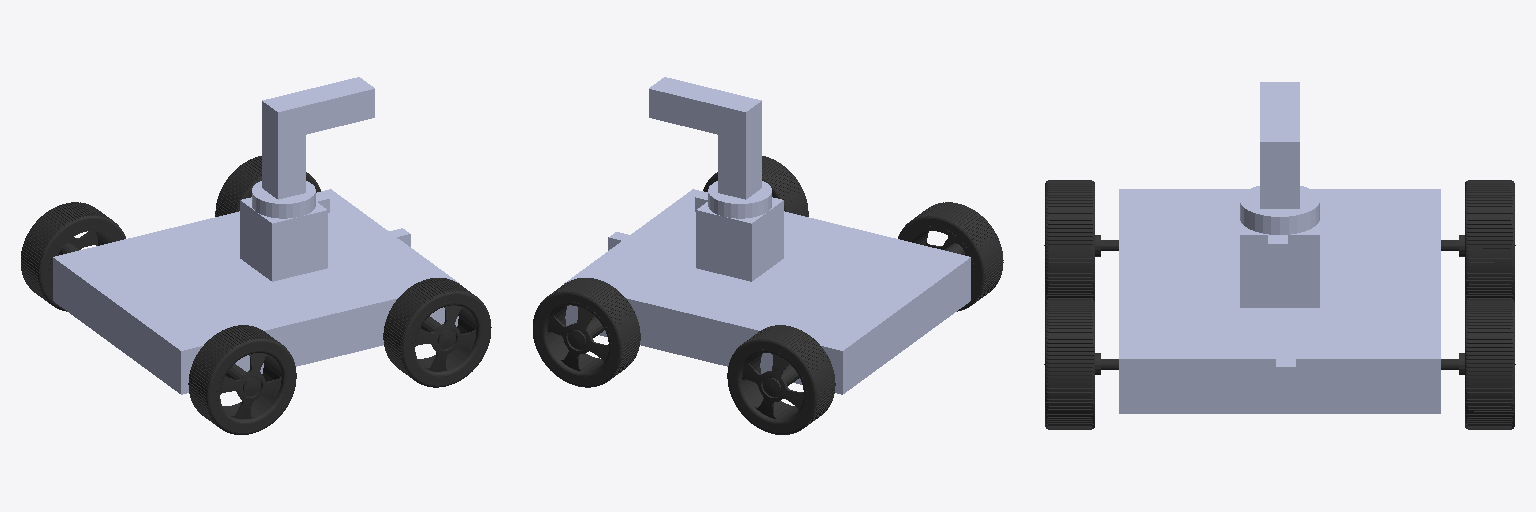
The robot description file, URDF, robot "cuoiky":
<?xml version="1.0" encoding="utf-8"?>
<robot name="cuoiky">
  <!-- Base Link -->
  <link name="base_link">
    <inertial>
      <origin xyz="0.00231 0 -0.01278" rpy="0 0 0" />
      <mass value="1.015" />
      <inertia ixx="0.00219" ixy="0" ixz="-0.000042" iyy="0.00334" iyz="0" izz="0.00523" />
    </inertial>
    <visual>
      <origin xyz="0 0 0" rpy="0 0 0" />
      <geometry>
        <mesh filename="package://cuoiky/meshes/base_link.STL" />
      </geometry>
      <material name="default">
        <color rgba="0.792 0.819 0.933 1" />
      </material>
    </visual>
    <collision>
      <origin xyz="0 0 0" rpy="0 0 0" />
      <geometry>
        <mesh filename="package://cuoiky/meshes/base_link.STL" />
      </geometry>
    </collision>
  </link>

  <!-- Xoay Link -->
  <link name="xoay_link">
    <inertial>
      <origin xyz="0.01018 0 0.03729" rpy="0 0 0" />
      <mass value="0.05157" />
      <inertia ixx="0.0000316" ixy="0" ixz="-0.0000119" iyy="0.0000472" iyz="0" izz="0.0000209" />
    </inertial>
    <visual>
      <origin xyz="0 0 0" rpy="0 0 0" />
      <geometry>
        <mesh filename="package://cuoiky/meshes/xoay_link.STL" />
      </geometry>
      <material name="default">
        <color rgba="0.792 0.819 0.933 1" />
      </material>
    </visual>
    <collision>
      <origin xyz="0 0 0" rpy="0 0 0" />
      <geometry>
        <mesh filename="package://cuoiky/meshes/xoay_link.STL" />
      </geometry>
    </collision>
  </link>
  <joint name="xoay_joint" type="revolute">
    <origin xyz="0.021 0 0.04" rpy="0 0 0" />
    <parent link="base_link" />
    <child link="xoay_link" />
    <axis xyz="0 0 -1" />
    <limit lower="-3.14" upper="3.14" effort="100" velocity="10" />
  </joint>

  <!-- Tien Link -->
  <link name="tien_link">
    <inertial>
      <origin xyz="0 0 -0.025" rpy="0 0 0" />
      <mass value="0.005" />
      <inertia ixx="0.00000108" ixy="0" ixz="0" iyy="0.00000108" iyz="0" izz="0.000000083" />
    </inertial>
    <visual>
      <origin xyz="0 0 0" rpy="0 0 0" />
      <geometry>
        <mesh filename="package://cuoiky/meshes/tien_link.STL" />
      </geometry>
      <material name="default">
        <color rgba="0.792 0.819 0.933 1" />
      </material>
    </visual>
    <collision>
      <origin xyz="0 0 0" rpy="0 0 0" />
      <geometry>
        <mesh filename="package://cuoiky/meshes/tien_link.STL" />
      </geometry>
    </collision>
  </link>
  <joint name="tien_joint" type="prismatic">
    <origin xyz="0.06 0 0.06" rpy="1.571 0 1.571" />
    <parent link="xoay_link" />
    <child link="tien_link" />
    <axis xyz="0 0 -1" />
    <limit lower="-0.05" upper="0" effort="100" velocity="1" />
  </joint>

  <!-- TT Link -->
  <link name="tt_link">
    <inertial>
      <origin xyz="0 0 -0.01544" rpy="0 0 0" />
      <mass value="0.04581" />
      <inertia ixx="0.0000188" ixy="0" ixz="0" iyy="0.0000188" iyz="0" izz="0.0000326" />
    </inertial>
    <visual>
      <origin xyz="0 0 0" rpy="0 0 0" />
      <geometry>
        <mesh filename="package://cuoiky/meshes/tt_link.STL" />
      </geometry>
      <material name="default">
        <color rgba="0.251 0.251 0.251 1" />
      </material>
    </visual>
    <collision>
      <origin xyz="0 0 0" rpy="0 0 0" />
      <geometry>
        <mesh filename="package://cuoiky/meshes/tt_link.STL" />
      </geometry>
    </collision>
  </link>
  <joint name="tt_joint" type="continuous">
    <origin xyz="0.071 0.089 -0.017" rpy="1.571 0 0" />
    <parent link="base_link" />
    <child link="tt_link" />
    <axis xyz="0 0 1" />
  </joint>

  <!-- TP Link -->
  <link name="tp_link">
    <inertial>
      <origin xyz="0 0 0.01544" rpy="0 0 0" />
      <mass value="0.04581" />
      <inertia ixx="0.0000188" ixy="0" ixz="0" iyy="0.0000188" iyz="0" izz="0.0000326" />
    </inertial>
    <visual>
      <origin xyz="0 0 0" rpy="0 0 0" />
      <geometry>
        <mesh filename="package://cuoiky/meshes/tp_link.STL" />
      </geometry>
      <material name="default">
        <color rgba="0.251 0.251 0.251 1" />
      </material>
    </visual>
    <collision>
      <origin xyz="0 0 0" rpy="0 0 0" />
      <geometry>
        <mesh filename="package://cuoiky/meshes/tp_link.STL" />
      </geometry>
    </collision>
  </link>
  <joint name="tp_joint" type="continuous">
    <origin xyz="0.071 -0.089 -0.017" rpy="1.571 0 0" />
    <parent link="base_link" />
    <child link="tp_link" />
    <axis xyz="0 0 1" />
  </joint>

  <!-- SP Link -->
  <link name="sp_link">
    <inertial>
      <origin xyz="0 0 0.01544" rpy="0 0 0" />
      <mass value="0.04581" />
      <inertia ixx="0.0000188" ixy="0" ixz="0" iyy="0.0000188" iyz="0" izz="0.0000326" />
    </inertial>
    <visual>
      <origin xyz="0 0 0" rpy="0 0 0" />
      <geometry>
        <mesh filename="package://cuoiky/meshes/sp_link.STL" />
      </geometry>
      <material name="default">
        <color rgba="0.251 0.251 0.251 1" />
      </material>
    </visual>
    <collision>
      <origin xyz="0 0 0" rpy="0 0 0" />
      <geometry>
        <mesh filename="package://cuoiky/meshes/sp_link.STL" />
      </geometry>
    </collision>
  </link>
  <joint name="sp_joint" type="continuous">
    <origin xyz="-0.069 -0.089 -0.017" rpy="1.571 0 0" />
    <parent link="base_link" />
    <child link="sp_link" />
    <axis xyz="0 0 -1" />
  </joint>

  <!-- ST Link -->
  <link name="st_link">
    <inertial>
      <origin xyz="0 0 -0.01544" rpy="0 0 0" />
      <mass value="0.04581" />
      <inertia ixx="0.0000188" ixy="0" ixz="0" iyy="0.0000188" iyz="0" izz="0.0000326" />
    </inertial>
    <visual>
      <origin xyz="0 0 0" rpy="0 0 0" />
      <geometry>
        <mesh filename="package://cuoiky/meshes/st_link.STL" />
      </geometry>
      <material name="default">
        <color rgba="0.251 0.251 0.251 1" />
      </material>
    </visual>
    <collision>
      <origin xyz="0 0 0" rpy="0 0 0" />
      <geometry>
        <mesh filename="package://cuoiky/meshes/st_link.STL" />
      </geometry>
    </collision>
  </link>
  <joint name="st_joint" type="continuous">
    <origin xyz="-0.069 0.089 -0.017" rpy="1.571 0 0" />
    <parent link="base_link" />
    <child link="st_link" />
    <axis xyz="0 0 -1" />
  </joint>

  <!-- Camera Link -->
  <link name="camera_link">
    <inertial>
      <origin xyz="0.005 0 0" rpy="0 0 0" />
      <mass value="0.001" />
      <inertia ixx="0.0000000167" ixy="0" ixz="0" iyy="0.0000000167" iyz="0" izz="0.0000000167" />
    </inertial>
    <visual>
      <origin xyz="0 0 0" rpy="0 0 0" />
      <geometry>
        <mesh filename="package://cuoiky/meshes/camera_link.STL" />
      </geometry>
      <material name="default">
        <color rgba="0.792 0.819 0.933 1" />
      </material>
    </visual>
    <collision>
      <origin xyz="0 0 0" rpy="0 0 0" />
      <geometry>
        <mesh filename="package://cuoiky/meshes/camera_link.STL" />
      </geometry>
    </collision>
  </link>
  <joint name="camera_joint" type="fixed">
    <origin xyz="0.101 0.003 -0.005" rpy="1.571 0 0" />
    <parent link="base_link" />
    <child link="camera_link" />
  </joint>

  <!-- IMU Link -->
  <link name="imu_link">
    <inertial>
      <origin xyz="-0.005 0 0" rpy="0 0 0" />
      <mass value="0.001" />
      <inertia ixx="0.0000000167" ixy="0" ixz="0" iyy="0.0000000167" iyz="0" izz="0.0000000167" />
    </inertial>
    <visual>
      <origin xyz="0 0 0" rpy="0 0 0" />
      <geometry>
        <mesh filename="package://cuoiky/meshes/imu_link.STL" />
      </geometry>
      <material name="default">
        <color rgba="0.792 0.819 0.933 1" />
      </material>
    </visual>
    <collision>
      <origin xyz="0 0 0" rpy="0 0 0" />
      <geometry>
        <mesh filename="package://cuoiky/meshes/imu_link.STL" />
      </geometry>
    </collision>
  </link>
  <joint name="imu_joint" type="fixed">
    <origin xyz="0.041 -0.001 0.035" rpy="1.571 0 3.142" />
    <parent link="base_link" />
    <child link="imu_link" />
  </joint>

  <!-- Gazebo IMU Plugin -->
  <gazebo reference="imu_link">
    <plugin name="imu_plugin" filename="libgazebo_ros_imu.so">
      <ros>
        <namespace>/</namespace>
      </ros>
      <alwaysOn>true</alwaysOn>
      <updateRate>50.0</updateRate>
      <topicName>/imu/data</topicName>
    </plugin>
  </gazebo>

  <!-- Gazebo Camera Plugin -->
  <gazebo reference="camera_link">
    <plugin name="camera_plugin" filename="libgazebo_ros_camera.so">
      <alwaysOn>true</alwaysOn>
      <updateRate>30.0</updateRate>
      <cameraName>camera1</cameraName>
      <imageTopicName>/camera1/image_raw</imageTopicName>
      <cameraInfoTopicName>/camera1/camera_info</cameraInfoTopicName>
    </plugin>
  </gazebo>

  <!-- Gazebo Diff Drive Plugin -->
<gazebo>
  <plugin name="diff_drive_controller" filename="libgazebo_ros_diff_drive.so">
    <robotNamespace>/</robotNamespace>
    <commandTopic>/cmd_vel</commandTopic>
    <odometryTopic>/odom</odometryTopic>
    <odometryFrame>odom</odometryFrame>
    <robotBaseFrame>base_link</robotBaseFrame>
    <wheelSeparation>0.5</wheelSeparation>
    <wheelDiameter>0.15</wheelDiameter>
    <publishWheelTF>true</publishWheelTF>
    <publishWheelJointState>true</publishWheelJointState>
    <publishOdomTF>true</publishOdomTF>
    <wheelAcceleration>10.0</wheelAcceleration>
    <wheelTorque>50.0</wheelTorque>
    <updateRate>200</updateRate>
    <leftJoint>st_joint</leftJoint>
    <rightJoint>sp_joint</rightJoint>
    <rosDebugLevel>na</rosDebugLevel>
    <odometrySource>encoder</odometrySource>
    <publishTf>1</publishTf>
  </plugin>
</gazebo>
<gazebo reference="xoay_link">
  <plugin name="xoay_link_controller" filename="libgazebo_ros_control.so">
    <robotNamespace>/</robotNamespace>
    <jointName>xoay_joint</jointName>
    <pid>10.0 0.0 0.0</pid>
  </plugin>
</gazebo>

<gazebo reference="tien_link">
  <plugin name="tien_link_controller" filename="libgazebo_ros_control.so">
    <robotNamespace>/</robotNamespace>
    <jointName>tien_joint</jointName>
    <pid>10.0 0.0 0.0</pid>
  </plugin>
</gazebo>

<gazebo reference="st_joint">
  <plugin name="st_joint_encoder" filename="libgazebo_ros_joint_state_publisher.so">
    <jointName>st_joint</jointName>
    <topicName>/st_joint/encoder</topicName>
  </plugin>
</gazebo>

<gazebo reference="sp_joint">
  <plugin name="sp_joint_encoder" filename="libgazebo_ros_joint_state_publisher.so">
    <jointName>sp_joint</jointName>
    <topicName>/sp_joint/encoder</topicName>
  </plugin>
</gazebo>

</robot>

--- Render facts (derived) ---
3 views of the same robot in one strip: view 1: azimuth 30°, elevation 25°; view 2: azimuth 150°, elevation 25°; view 3: azimuth 270°, elevation 25° (orthographic).
Model cuoiky with 9 links and 8 joints (1 revolute, 4 continuous, 1 prismatic, 2 fixed), rooted at base_link, posed every joint at zero.
Visible links, largest first — view 1: base_link, xoay_link, sp_link, tp_link, st_link, tt_link; view 2: base_link, xoay_link, st_link, tt_link, sp_link, tp_link; view 3: base_link, xoay_link, tt_link, tp_link, sp_link, st_link, camera_link, imu_link.
Boxes of the visible links, x1,y1,x2,y2 form: base_link: (53, 189, 459, 394); xoay_link: (252, 77, 374, 218); sp_link: (188, 325, 296, 434); tp_link: (383, 278, 491, 387); st_link: (21, 202, 125, 311); tt_link: (215, 156, 320, 216); base_link: (564, 189, 970, 394); xoay_link: (649, 77, 771, 218); st_link: (727, 325, 835, 434); tt_link: (533, 278, 640, 387); sp_link: (898, 202, 1003, 311); tp_link: (703, 156, 808, 216); base_link: (1119, 189, 1440, 413); xoay_link: (1240, 82, 1319, 234); tt_link: (1441, 299, 1515, 429); tp_link: (1044, 299, 1118, 429); sp_link: (1044, 180, 1118, 300); st_link: (1441, 180, 1515, 300); camera_link: (1276, 359, 1295, 385); imu_link: (1268, 235, 1287, 261).
Size in the robot's own frame: 0.2125 by 0.2346 by 0.1595 metres.
Meshes: 9 distinct files referenced, 9 mesh visuals loaded (9 binary STL).
